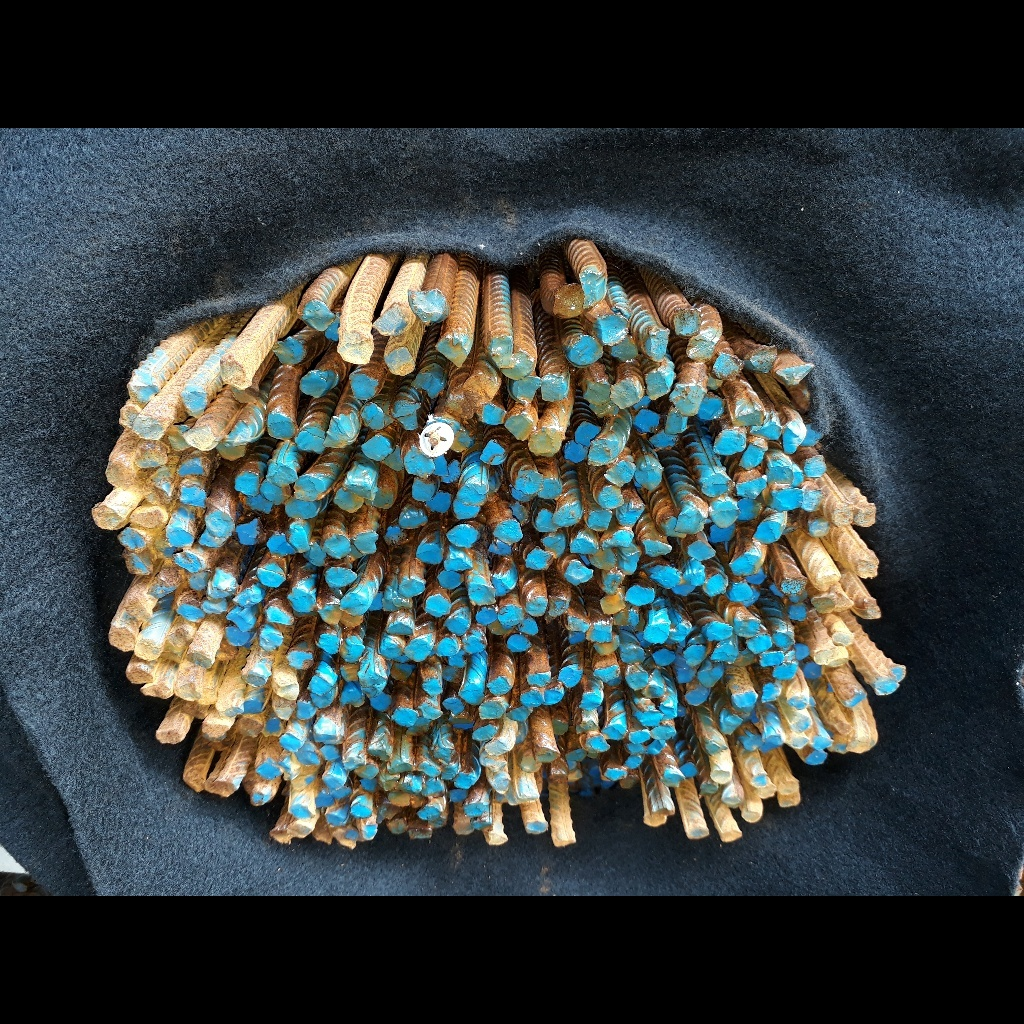dipstick: (407, 290, 446, 323), (592, 314, 629, 347), (576, 270, 607, 308), (105, 455, 138, 489), (670, 383, 704, 415), (144, 470, 176, 504), (554, 282, 585, 317), (567, 336, 604, 365), (774, 362, 814, 388), (220, 356, 250, 390), (302, 300, 334, 331), (91, 503, 127, 530), (424, 416, 461, 442), (463, 376, 495, 406), (745, 345, 778, 374), (435, 337, 466, 367), (207, 567, 237, 598), (374, 306, 406, 335), (273, 335, 305, 364), (338, 338, 373, 364), (405, 447, 435, 477), (362, 433, 393, 462), (360, 403, 393, 430), (711, 353, 745, 379), (182, 425, 216, 451), (686, 336, 715, 366), (205, 509, 235, 538), (502, 352, 533, 380), (412, 371, 443, 399), (322, 415, 348, 448), (259, 478, 292, 504), (132, 414, 165, 440), (782, 419, 807, 453), (615, 500, 645, 528), (235, 519, 266, 546), (604, 461, 636, 487), (614, 542, 639, 575), (292, 475, 325, 500), (283, 496, 320, 518), (386, 347, 415, 375), (349, 372, 378, 400), (296, 426, 325, 454), (610, 380, 637, 410), (505, 415, 535, 442), (232, 584, 267, 607), (488, 337, 513, 369), (267, 412, 295, 440), (511, 377, 541, 403), (393, 400, 418, 431), (343, 473, 374, 498), (298, 373, 329, 398), (713, 432, 745, 456), (647, 330, 671, 362), (128, 376, 160, 400), (324, 566, 357, 589), (134, 445, 167, 468), (673, 309, 701, 336), (711, 500, 739, 527), (271, 672, 299, 699), (179, 483, 207, 510), (108, 625, 136, 652), (322, 534, 351, 560), (334, 488, 364, 513), (446, 525, 480, 547), (700, 473, 731, 497), (443, 395, 474, 419), (265, 531, 296, 555), (635, 463, 663, 489), (565, 561, 593, 587), (204, 775, 237, 797), (359, 672, 388, 697), (286, 524, 311, 553), (287, 587, 316, 612), (257, 563, 286, 588), (730, 551, 760, 575), (525, 546, 553, 571), (535, 506, 563, 531), (675, 510, 704, 534), (493, 521, 523, 544), (457, 483, 487, 506), (475, 403, 506, 425), (731, 408, 765, 428), (339, 682, 365, 708), (611, 336, 638, 361), (479, 440, 506, 465), (214, 440, 247, 460), (552, 504, 583, 525), (266, 465, 297, 486), (131, 507, 162, 528), (172, 551, 203, 572), (226, 610, 257, 631), (776, 486, 802, 511), (589, 545, 615, 570), (528, 430, 554, 455), (312, 716, 337, 742), (167, 424, 192, 450), (516, 470, 543, 494), (706, 520, 734, 543), (597, 485, 625, 508), (753, 521, 782, 543), (646, 371, 668, 400), (736, 478, 766, 499), (625, 585, 655, 606), (172, 680, 202, 701), (234, 715, 264, 736), (540, 377, 565, 402), (738, 443, 764, 467), (234, 471, 260, 495), (181, 387, 207, 411), (831, 499, 854, 526), (633, 410, 660, 433), (383, 444, 406, 471), (399, 507, 427, 529), (687, 540, 716, 561), (265, 604, 294, 625), (175, 601, 204, 622), (767, 466, 792, 490), (600, 590, 625, 614), (404, 638, 429, 662), (224, 421, 249, 445), (245, 662, 270, 686), (167, 627, 192, 651), (215, 698, 245, 718), (575, 421, 601, 444), (537, 476, 563, 499), (498, 605, 524, 628), (470, 583, 496, 606), (353, 531, 379, 554), (133, 638, 159, 661), (586, 509, 613, 531), (124, 597, 151, 619), (255, 758, 282, 780), (734, 616, 762, 637), (443, 615, 471, 636), (365, 487, 393, 508), (682, 562, 706, 586), (588, 443, 612, 467), (427, 490, 452, 513), (278, 755, 301, 780), (698, 398, 724, 420), (594, 634, 620, 656), (306, 674, 332, 696), (247, 493, 273, 515), (651, 569, 681, 588), (584, 382, 611, 403), (454, 499, 481, 520), (710, 643, 738, 663), (649, 430, 677, 450), (665, 411, 689, 434), (601, 572, 625, 595), (302, 543, 326, 566), (259, 630, 283, 653), (444, 554, 473, 573), (285, 650, 314, 669), (166, 527, 195, 546), (818, 566, 840, 591), (417, 543, 442, 565), (803, 422, 823, 449), (772, 660, 799, 680), (642, 540, 672, 558), (571, 536, 598, 556), (147, 579, 177, 597), (201, 720, 231, 738), (593, 664, 621, 683), (307, 689, 335, 708), (231, 383, 259, 402), (857, 555, 880, 578), (704, 573, 727, 596), (296, 742, 319, 765), (737, 497, 759, 521), (459, 683, 483, 705), (315, 633, 339, 655), (250, 784, 274, 806), (750, 423, 781, 440), (728, 581, 753, 602), (747, 632, 772, 653), (339, 593, 364, 614), (117, 406, 142, 427), (199, 529, 228, 547), (432, 747, 459, 766), (223, 627, 250, 646), (139, 682, 171, 698), (602, 530, 632, 547), (177, 461, 207, 478), (777, 785, 800, 807), (565, 440, 587, 463), (552, 827, 576, 848), (542, 535, 566, 556), (384, 525, 408, 546), (125, 665, 153, 683), (182, 700, 210, 718), (279, 732, 304, 752), (183, 772, 208, 792), (650, 797, 676, 816), (186, 650, 212, 669), (780, 577, 807, 595), (731, 690, 758, 708), (706, 622, 733, 640), (437, 570, 464, 588), (804, 455, 826, 477), (855, 503, 876, 526), (721, 784, 744, 805), (412, 480, 435, 501), (318, 603, 341, 624), (312, 823, 335, 844), (487, 676, 511, 696), (342, 642, 366, 662), (644, 624, 669, 643), (587, 623, 612, 642), (874, 677, 900, 695), (613, 610, 639, 628), (601, 723, 627, 741), (478, 702, 504, 720), (392, 708, 418, 726), (400, 578, 426, 596), (353, 761, 379, 779), (755, 778, 777, 799), (665, 517, 686, 539), (683, 644, 705, 665), (722, 713, 743, 735), (371, 691, 392, 713), (241, 694, 263, 715), (390, 662, 413, 682), (391, 588, 414, 608), (260, 716, 283, 736), (620, 646, 645, 664), (588, 401, 616, 417), (802, 489, 822, 511), (790, 713, 812, 733), (520, 753, 542, 773), (450, 432, 472, 452), (340, 662, 360, 684), (812, 595, 835, 614), (741, 803, 764, 822), (625, 671, 648, 690), (579, 692, 602, 711), (516, 784, 539, 803), (511, 501, 530, 524), (434, 637, 457, 656), (336, 829, 359, 848), (587, 735, 611, 753), (507, 634, 531, 652), (510, 485, 534, 503), (453, 771, 477, 789), (339, 610, 363, 628), (155, 728, 182, 744), (520, 690, 545, 707), (386, 790, 411, 807), (368, 743, 389, 763), (197, 684, 217, 705), (808, 517, 830, 536), (835, 590, 854, 612), (697, 668, 719, 687), (567, 614, 589, 633), (558, 666, 577, 688), (541, 686, 563, 705), (476, 606, 498, 625), (492, 574, 511, 596), (442, 461, 461, 483), (386, 817, 408, 836), (359, 821, 381, 840), (485, 738, 511, 754), (771, 630, 794, 648), (652, 649, 675, 667), (505, 705, 532, 720), (535, 746, 560, 762), (296, 698, 316, 718), (267, 828, 292, 844), (201, 597, 226, 613), (788, 601, 807, 622), (829, 646, 850, 665), (548, 596, 567, 617), (422, 677, 443, 696), (463, 636, 485, 654), (287, 823, 315, 837), (805, 748, 828, 765), (442, 697, 465, 714), (489, 538, 512, 555), (400, 776, 423, 793), (759, 650, 783, 666), (761, 683, 780, 703), (669, 624, 688, 644), (274, 700, 293, 720), (441, 665, 462, 683), (479, 750, 504, 765), (802, 662, 824, 679), (735, 648, 757, 665), (432, 455, 449, 477), (350, 802, 372, 819), (379, 641, 401, 658), (685, 690, 708, 706), (525, 819, 548, 835), (473, 724, 496, 740), (420, 703, 443, 719), (421, 780, 444, 796), (321, 775, 344, 791), (649, 726, 677, 739), (526, 672, 552, 686), (388, 760, 414, 774), (862, 599, 881, 618), (447, 649, 466, 668), (846, 738, 870, 753), (493, 775, 513, 793), (319, 743, 340, 760), (832, 630, 854, 646), (470, 815, 492, 831), (671, 582, 696, 596), (416, 805, 441, 819), (628, 729, 651, 744), (641, 711, 664, 726), (486, 831, 509, 846), (452, 820, 475, 835), (551, 716, 569, 735), (620, 773, 640, 790), (518, 618, 538, 635), (791, 461, 804, 487), (326, 315, 339, 341), (289, 805, 315, 818), (813, 735, 834, 751), (380, 776, 401, 792), (419, 762, 441, 777), (343, 755, 365, 770), (327, 785, 352, 798), (831, 736, 849, 754), (743, 734, 761, 752), (386, 622, 413, 634), (794, 641, 811, 660), (813, 648, 832, 665), (644, 812, 667, 826), (604, 766, 627, 780), (463, 802, 486, 816), (703, 373, 723, 389), (831, 720, 851, 736), (382, 593, 398, 613), (843, 690, 864, 705), (746, 568, 767, 583), (710, 769, 731, 784), (688, 825, 709, 840), (663, 773, 684, 788), (705, 740, 727, 754), (642, 685, 664, 699), (648, 738, 666, 755), (439, 764, 458, 780), (450, 717, 473, 730), (360, 776, 377, 793), (676, 667, 694, 683), (659, 703, 675, 721), (721, 830, 743, 843), (515, 721, 528, 743), (410, 827, 433, 839), (891, 664, 907, 681), (788, 695, 806, 710), (749, 772, 767, 787), (746, 587, 760, 606), (427, 815, 446, 829), (314, 795, 336, 807), (636, 632, 652, 648), (415, 716, 431, 732), (792, 735, 810, 749), (624, 754, 642, 768), (566, 748, 585, 761), (448, 789, 468, 801), (679, 763, 697, 776), (568, 632, 586, 645), (625, 742, 646, 753), (369, 592, 381, 611), (325, 813, 344, 825), (763, 734, 782, 745), (634, 395, 650, 408), (701, 782, 718, 794), (589, 764, 602, 778), (405, 727, 425, 736), (762, 742, 777, 752), (676, 703, 686, 718), (565, 760, 577, 772), (601, 779, 615, 788), (395, 654, 408, 662)
